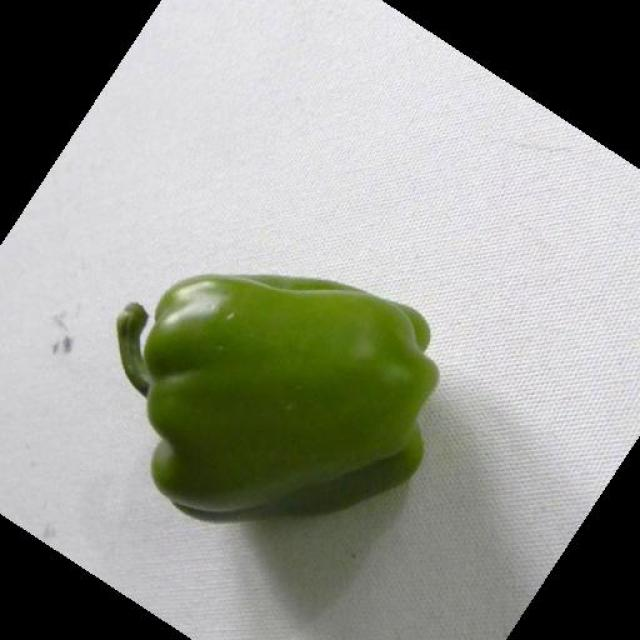Fresh_Capsicum: (93, 267, 475, 566)
